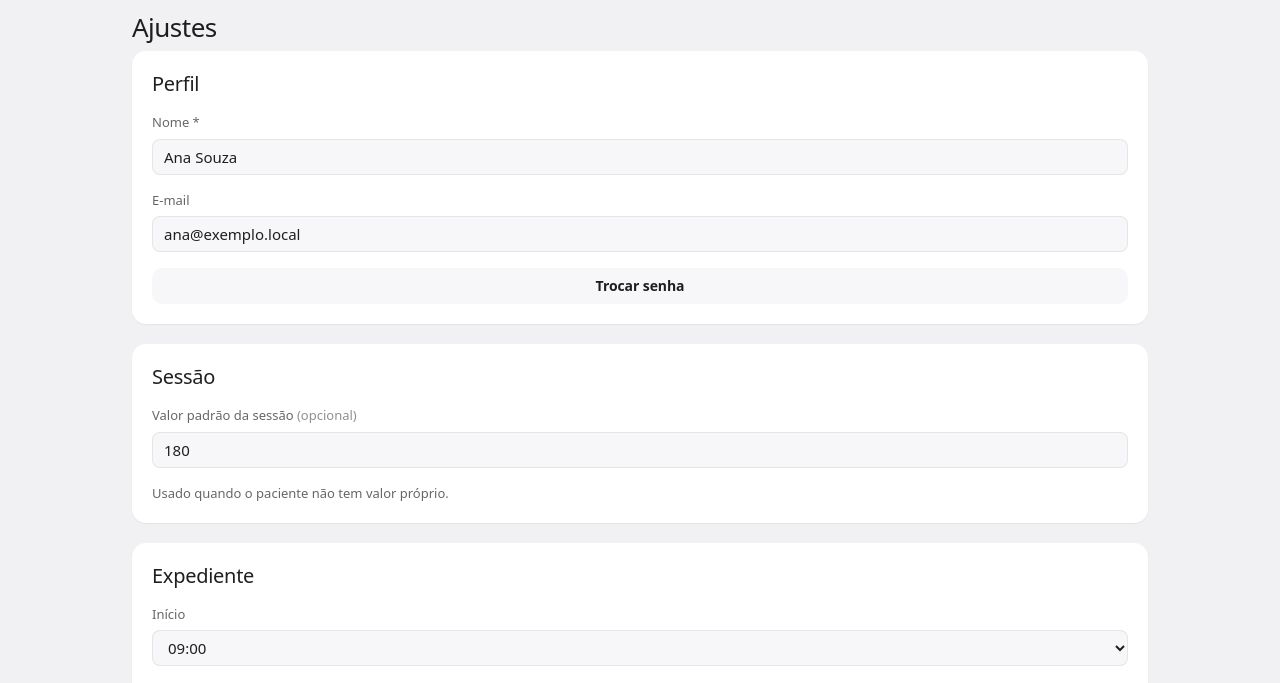
AjustesPage › mudar o expediente para 08:00 a 18:00 e salvar manda os numeros
Expected: the heading "Ajustes" is shown, [132, 9, 217, 45]
Expected: the field showing "Ana Souza" is shown, [152, 138, 1128, 174]
Select "08:00" in the dropdown labelled "Início". click: (640, 648)
box: [152, 630, 1128, 666]
(page scrolled)
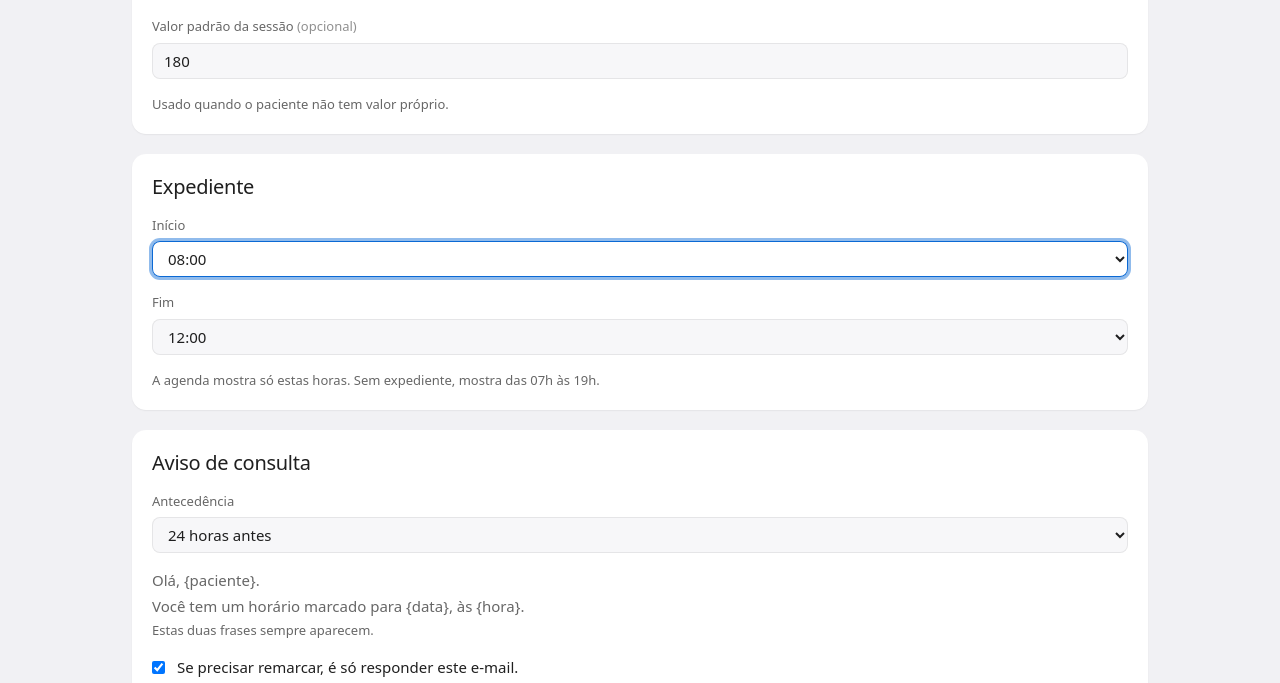
Select "18:00" in the dropdown labelled "Fim". click: (640, 336)
box: [152, 318, 1128, 354]
(page scrolled)
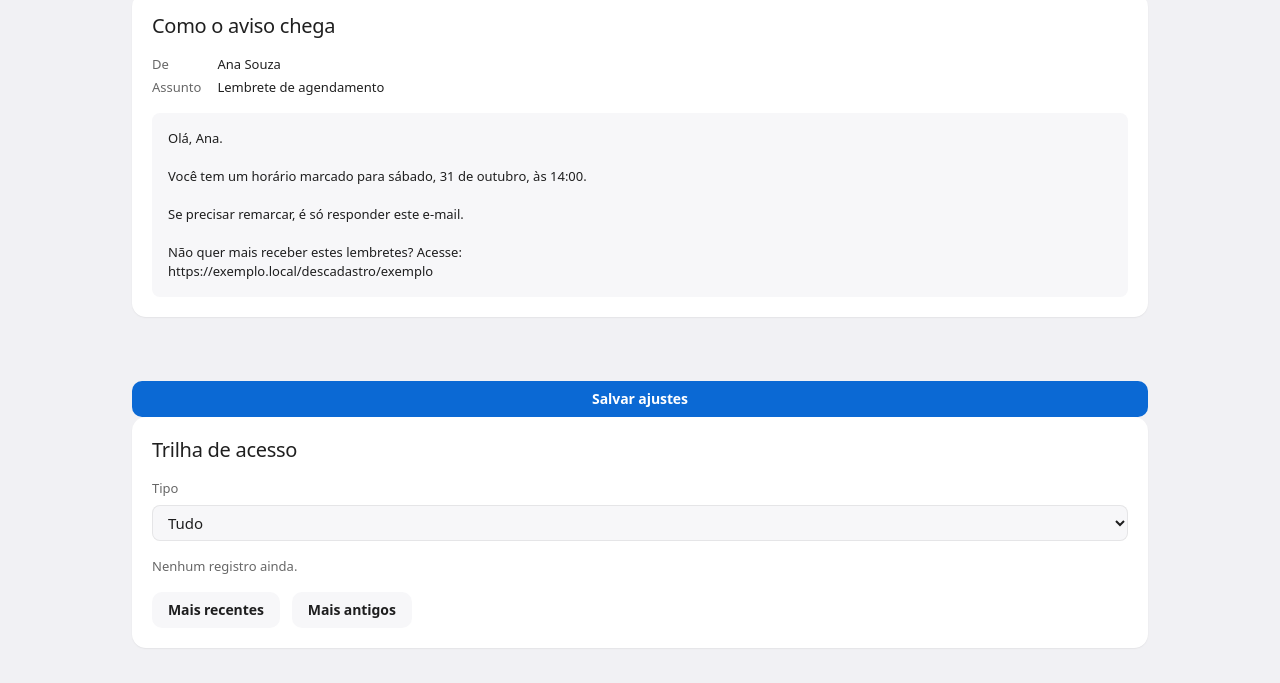
Click the button "Salvar ajustes". click: (640, 399)
box: [132, 381, 1148, 417]
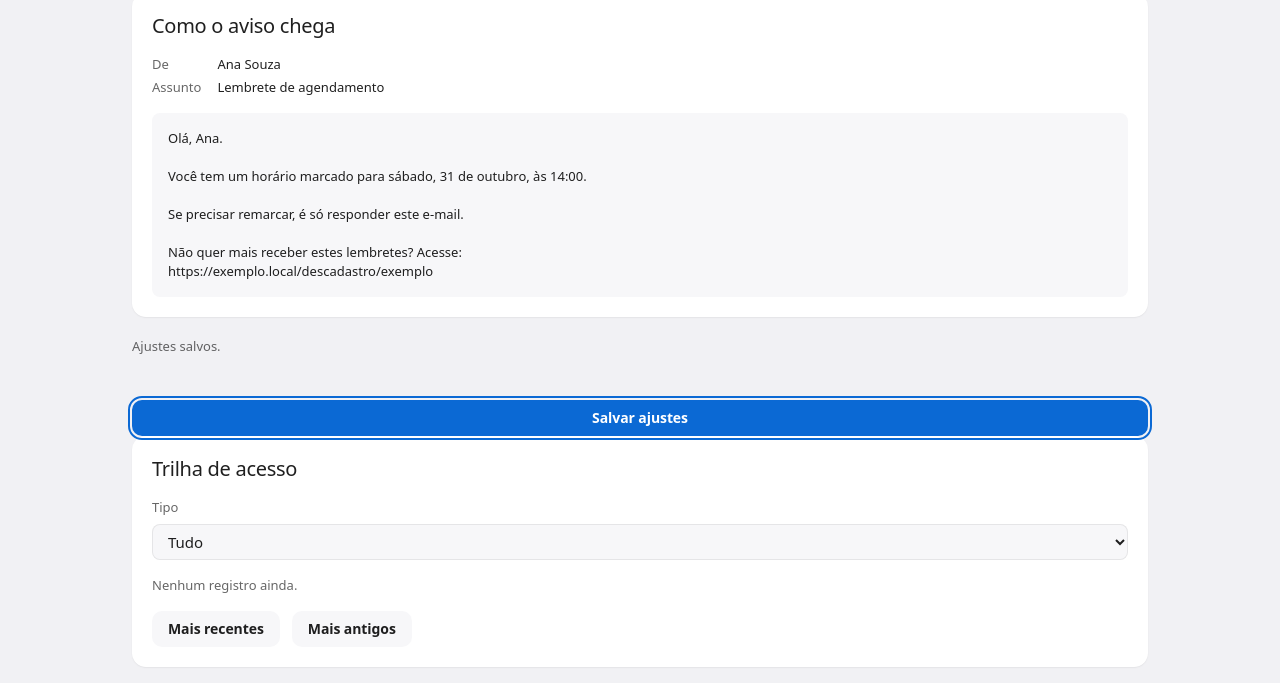
Expected: the text "Ajustes salvos." is shown, [132, 337, 221, 355]
